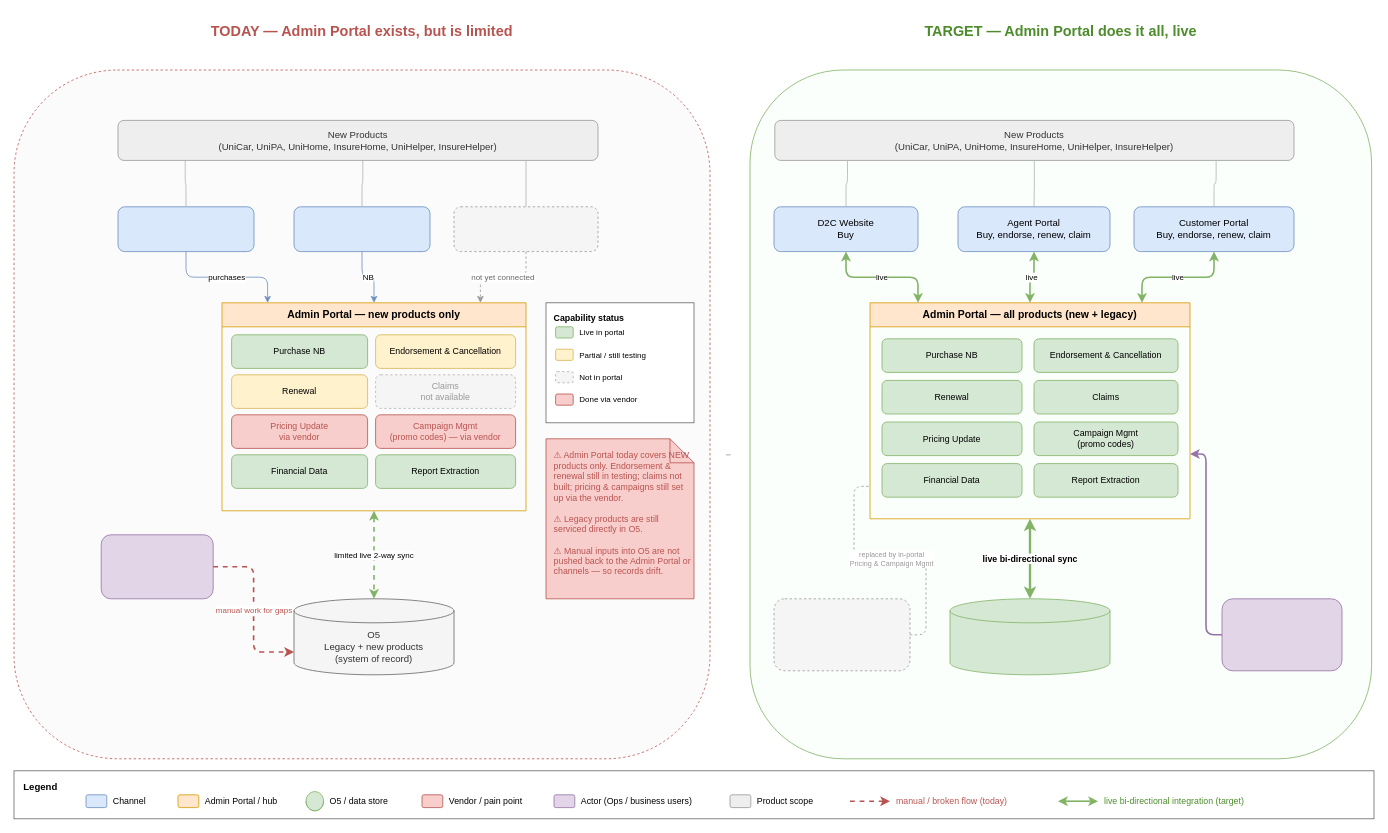
Image size: 1388x833. Some labels were removed from this diagram. Here are the shapes that lost their labels. From the top down, the centre of each, then its label:
the point at 185,229: D2C Website (Customers buy)
the point at 361,229: Agent Portal (Agents — NB only)
the point at 525,229: Customer Portal (being built)
the point at 156,566: Ops team Manual O5 work for everything else
the point at 841,634: Vendor dependency removed (pricing & campaign now in-portal)
the point at 1029,636: O5 System of record (live 2-way sync)
the point at 1281,634: Business users via Admin Portal
